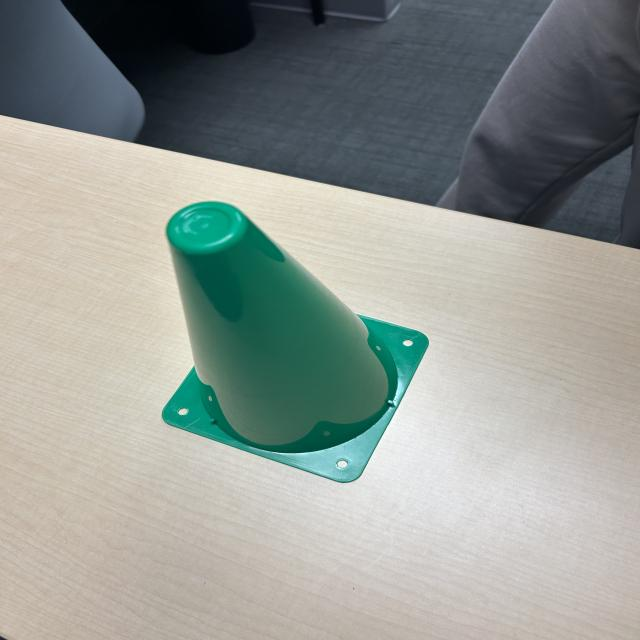green cone: (154, 193, 439, 488)
